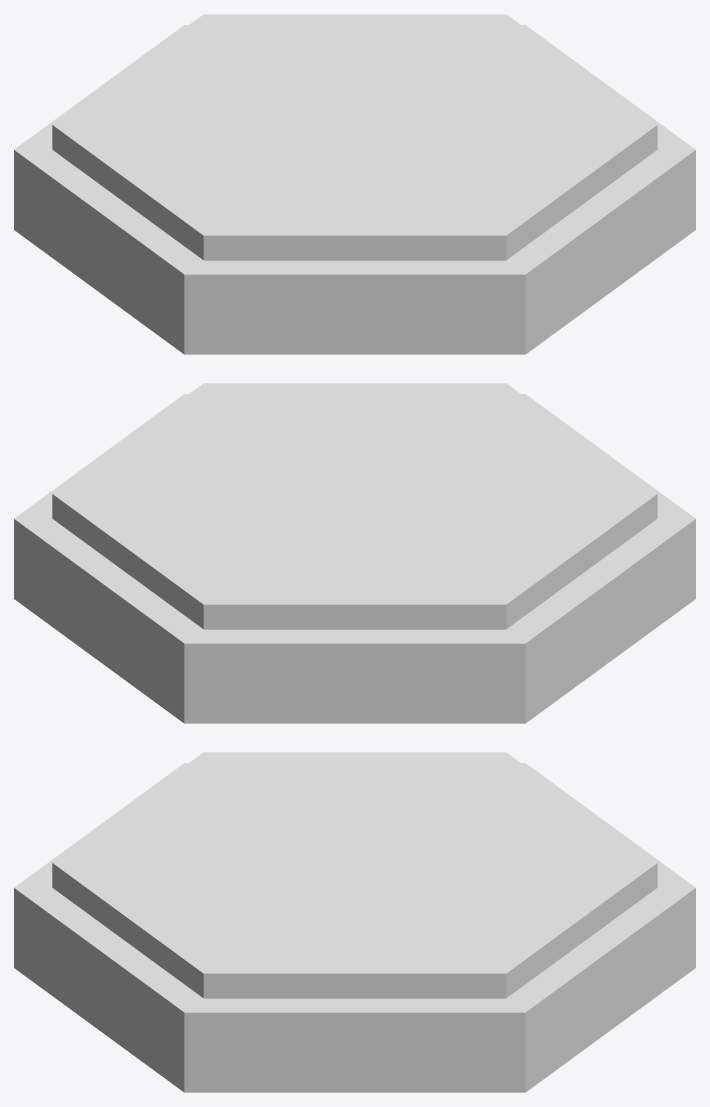
The model's file is PhotovoltaicCell.fbx.
3 views of the same model, one above another, from view 1: azimuth 30°, elevation 25°; view 2: azimuth 150°, elevation 25°; view 3: azimuth 270°, elevation 25° (orthographic).
Visible parts, largest first — view 1: PhotovoltaicCell; view 2: PhotovoltaicCell; view 3: PhotovoltaicCell.
Part boxes in pixels (box(x1,y1,x2,y2)): PhotovoltaicCell: box(14, 14, 695, 354); PhotovoltaicCell: box(14, 383, 695, 723); PhotovoltaicCell: box(14, 752, 695, 1092).
Bounding box in the file's own units: 40.35 × 7.91 × 46.6.
